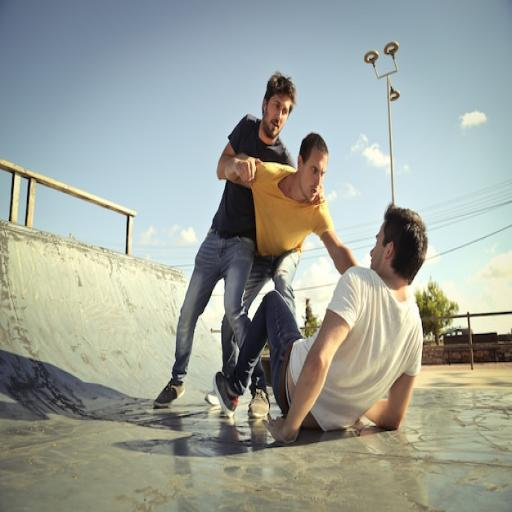fight: (236, 130, 448, 475)
